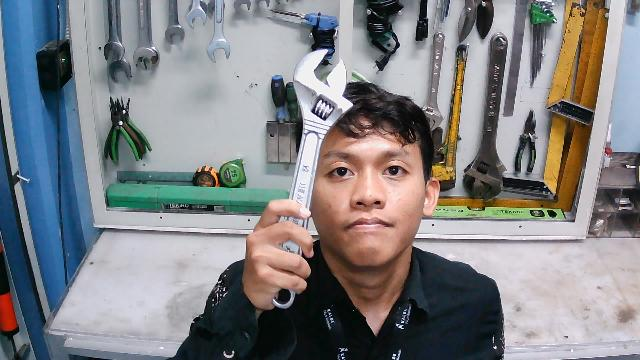kunci_inggris: (266, 46, 354, 310)
